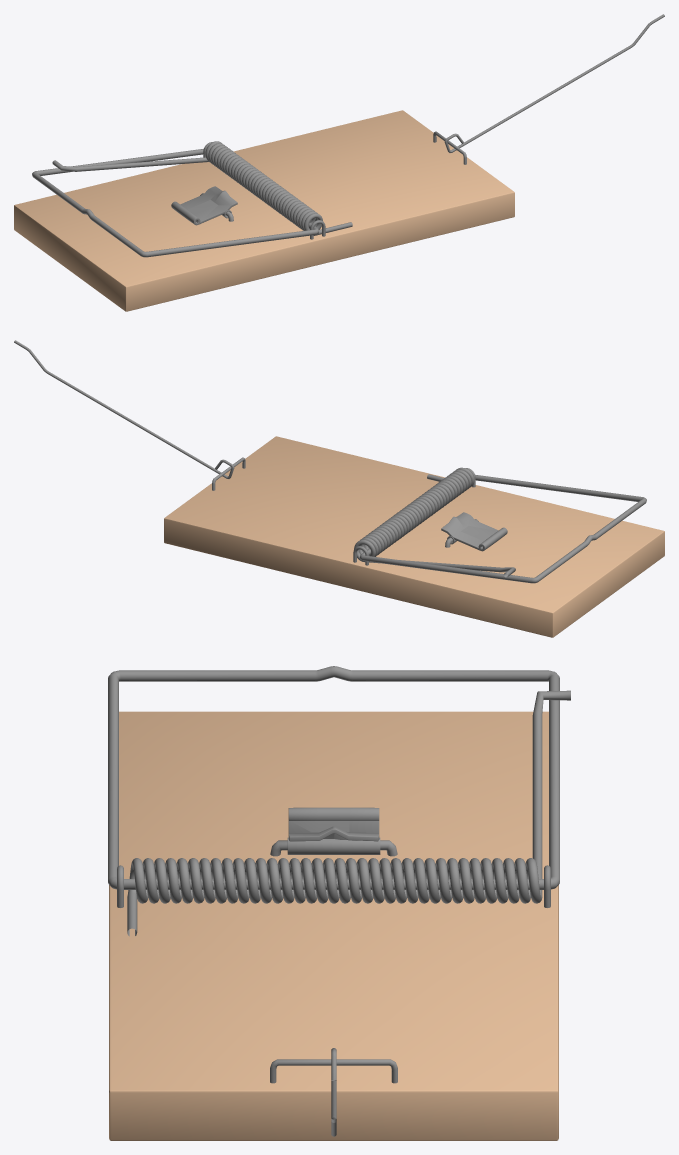
The model's file is mousetrap.glb.
The picture shows the model from 3 angles, top to bottom: view 1: azimuth 30°, elevation 25°; view 2: azimuth 150°, elevation 25°; view 3: azimuth 270°, elevation 25°; orthographic projection. The views are drawn at different scales.
Visible parts, largest first — view 1: Cube, Spiral, Plane, Cylinder, Plane.002; view 2: Cube, Spiral, Plane, Cylinder, Plane.002; view 3: Cube, Spiral, Plane, Cylinder, Plane.001.
Part boxes in pixels (x1,y1,x2,y2): Cube: (14,110,514,311); Spiral: (52,141,352,235); Plane: (32,148,318,257); Cylinder: (171,186,237,225); Plane.002: (444,14,664,152); Cube: (164,436,664,637); Spiral: (354,467,515,577); Plane: (360,474,646,583); Cylinder: (441,512,507,551); Plane.002: (14,340,234,478); Cube: (109,711,558,1140); Spiral: (127,690,570,936); Plane: (108,666,559,889); Cylinder: (287,807,380,854); Plane.001: (270,1059,397,1083).
Size of the model in its own units: 0.2444 by 0.044 by 0.0824.
